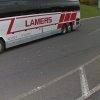Bus: (1, 2, 87, 52)
